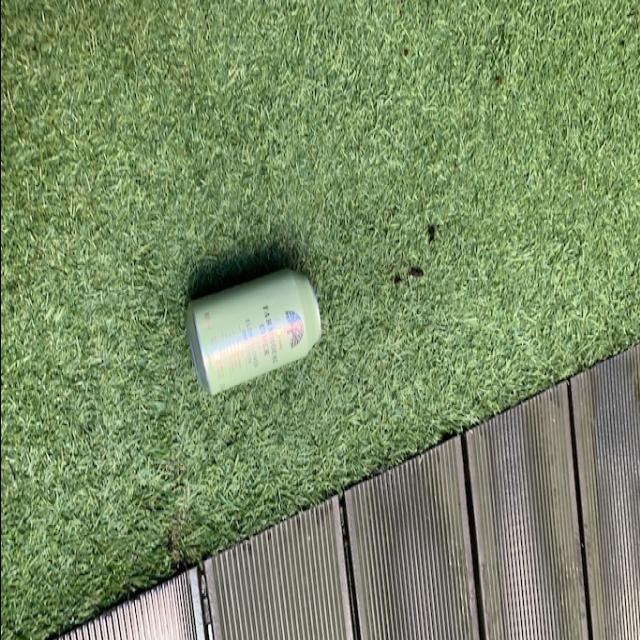Aluminum Can: (182, 254, 322, 400)
